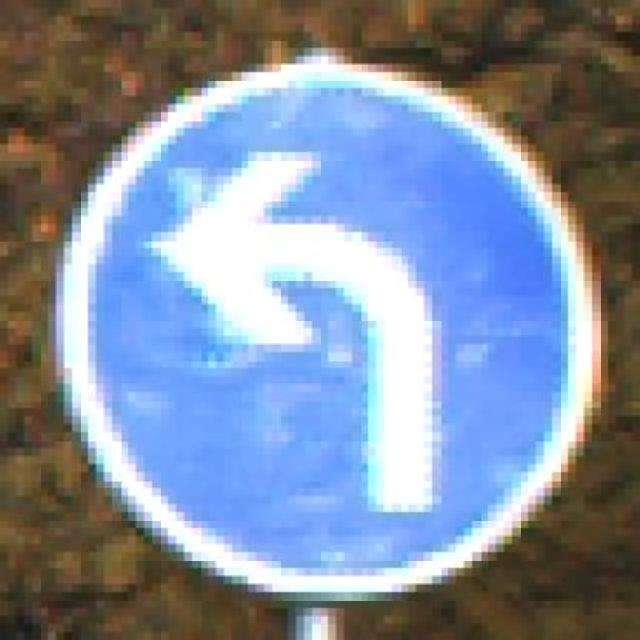Turn left ahead: (39, 40, 616, 600)
